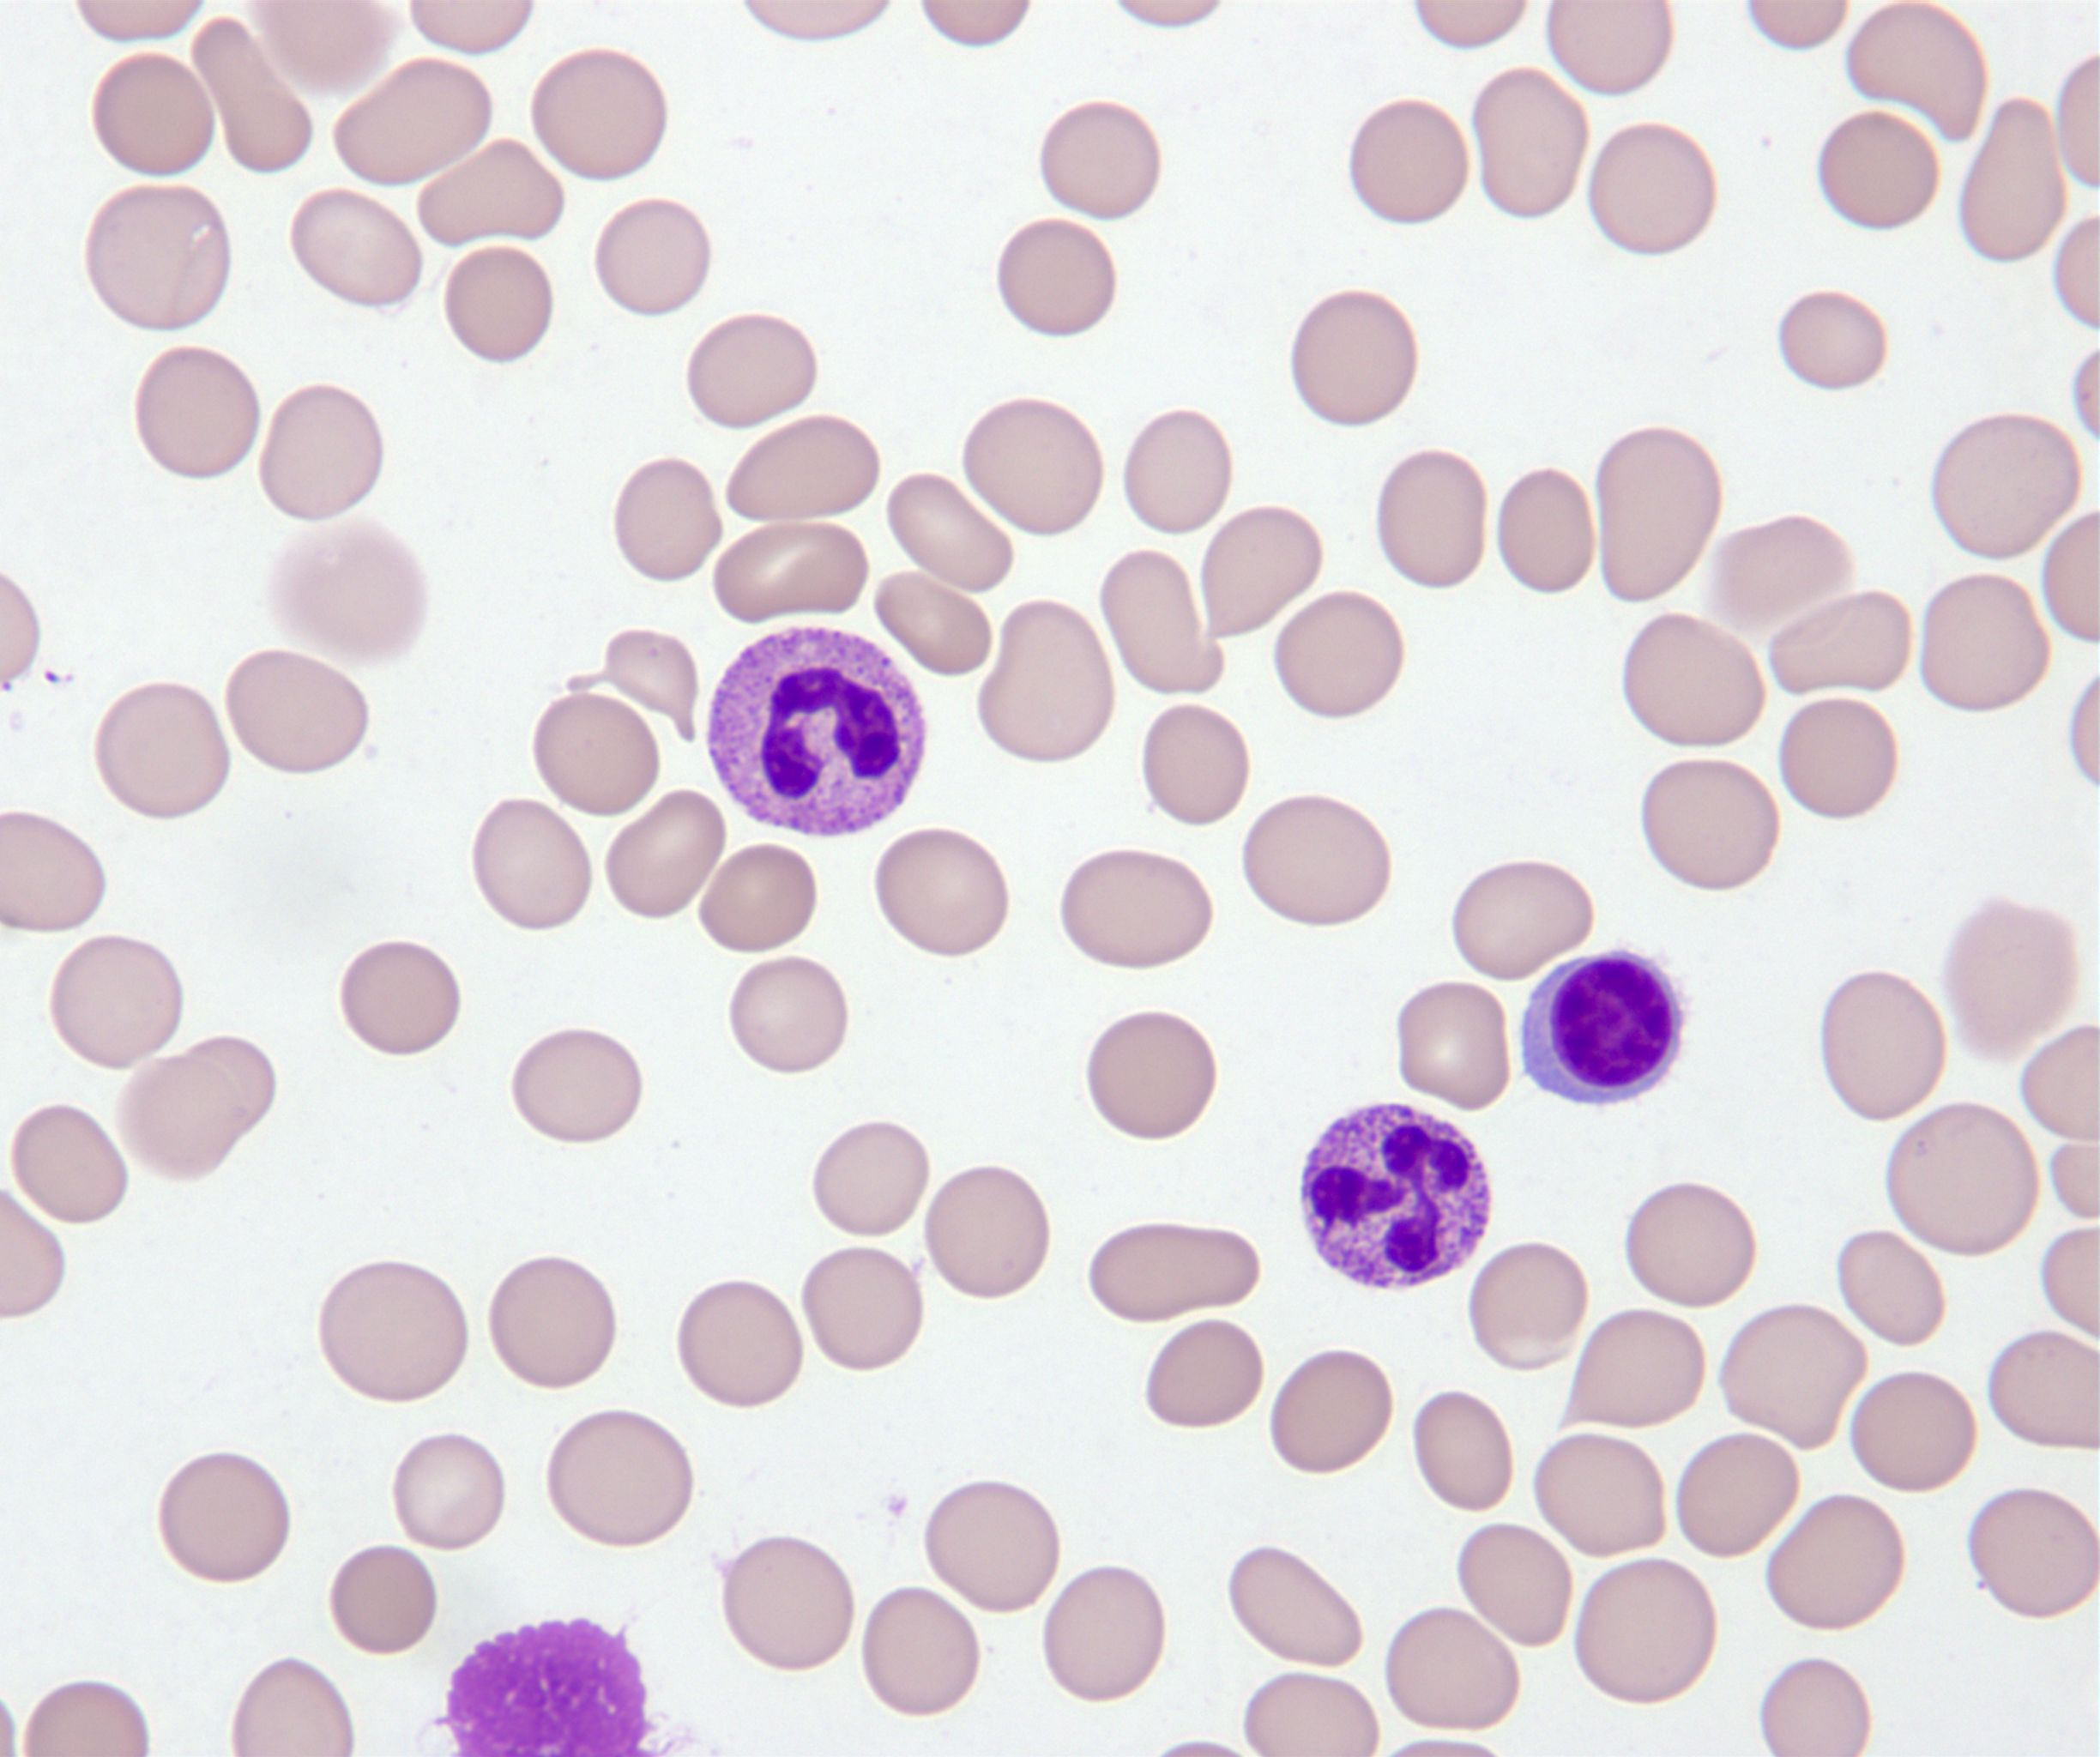32: (1523, 951, 1685, 1104)
5: (708, 626, 924, 836)
6: (1303, 1104, 1490, 1286)
x: (448, 1619, 649, 1757)
